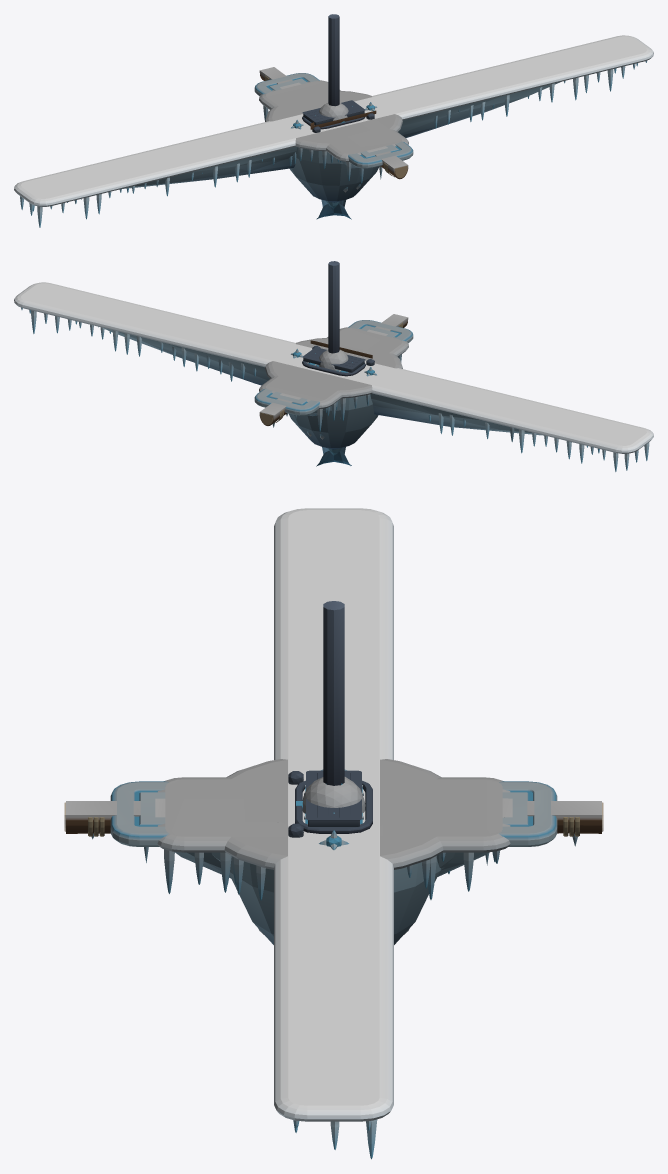
File: glacier-1-DfJb3X3e.glb
The picture shows the model from 3 angles, top to bottom: view 1: azimuth 30°, elevation 25°; view 2: azimuth 150°, elevation 25°; view 3: azimuth 270°, elevation 25°; orthographic projection. The views are drawn at different scales.
Parts seen in each view (by area): view 1: block_64x2x5#0, disc_12x1.5#0, block_7x2x16#0, block_6x2x20_ice#0, press_2.5x6x7.5#0, beam_1.5x1.5x24#0, beam_3x2x8#0, burner_4.7x1.2x2#0, boulder_3x3#0, mount_10_wheel#0, support_0_round#0; view 2: block_64x2x5#0, disc_12x1.5#0, block_7x2x16#0, block_6x2x20_ice#0, press_2.5x6x7.5#0, beam_1.5x1.5x24#0, burner_4.7x1.2x2#0, beam_3x2x8#0, boulder_3x3#0, support_0_round#0, jetVent_5x3#0; view 3: block_64x2x5#0, block_7x2x16#0, disc_12x1.5#0, block_6x2x20_ice#0, press_2.5x6x7.5#0, beam_1.5x1.5x24#0, beam_3x2x8#0, burner_4.7x1.2x2#0, boulder_3x3#0, jetVent_5x3#0.
Boxes of the visible parts, x1,y1,x2,y2 form: block_64x2x5#0: [14, 35, 653, 227]; disc_12x1.5#0: [265, 91, 402, 202]; block_7x2x16#0: [259, 80, 408, 183]; block_6x2x20_ice#0: [254, 73, 413, 168]; press_2.5x6x7.5#0: [328, 14, 360, 192]; beam_1.5x1.5x24#0: [259, 67, 408, 179]; beam_3x2x8#0: [297, 98, 370, 137]; burner_4.7x1.2x2#0: [302, 100, 365, 125]; boulder_3x3#0: [319, 103, 348, 120]; mount_10_wheel#0: [310, 110, 376, 132]; support_0_round#0: [316, 199, 351, 219]; block_64x2x5#0: [14, 282, 653, 471]; disc_12x1.5#0: [265, 338, 402, 449]; block_7x2x16#0: [259, 327, 408, 431]; block_6x2x20_ice#0: [254, 320, 413, 416]; press_2.5x6x7.5#0: [307, 261, 339, 439]; beam_1.5x1.5x24#0: [259, 314, 408, 427]; burner_4.7x1.2x2#0: [302, 347, 365, 372]; beam_3x2x8#0: [297, 345, 370, 384]; boulder_3x3#0: [318, 349, 348, 370]; support_0_round#0: [316, 447, 351, 466]; jetVent_5x3#0: [302, 360, 365, 376]; block_64x2x5#0: [274, 508, 393, 1159]; block_7x2x16#0: [157, 777, 510, 893]; disc_12x1.5#0: [224, 759, 450, 944]; block_6x2x20_ice#0: [110, 781, 557, 878]; press_2.5x6x7.5#0: [258, 601, 409, 934]; beam_1.5x1.5x24#0: [64, 801, 603, 862]; beam_3x2x8#0: [244, 793, 423, 822]; burner_4.7x1.2x2#0: [306, 770, 361, 826]; boulder_3x3#0: [302, 777, 365, 813]; jetVent_5x3#0: [295, 780, 372, 833].
Size of the model in its own units: 64.36 by 20.55 by 24.12.
